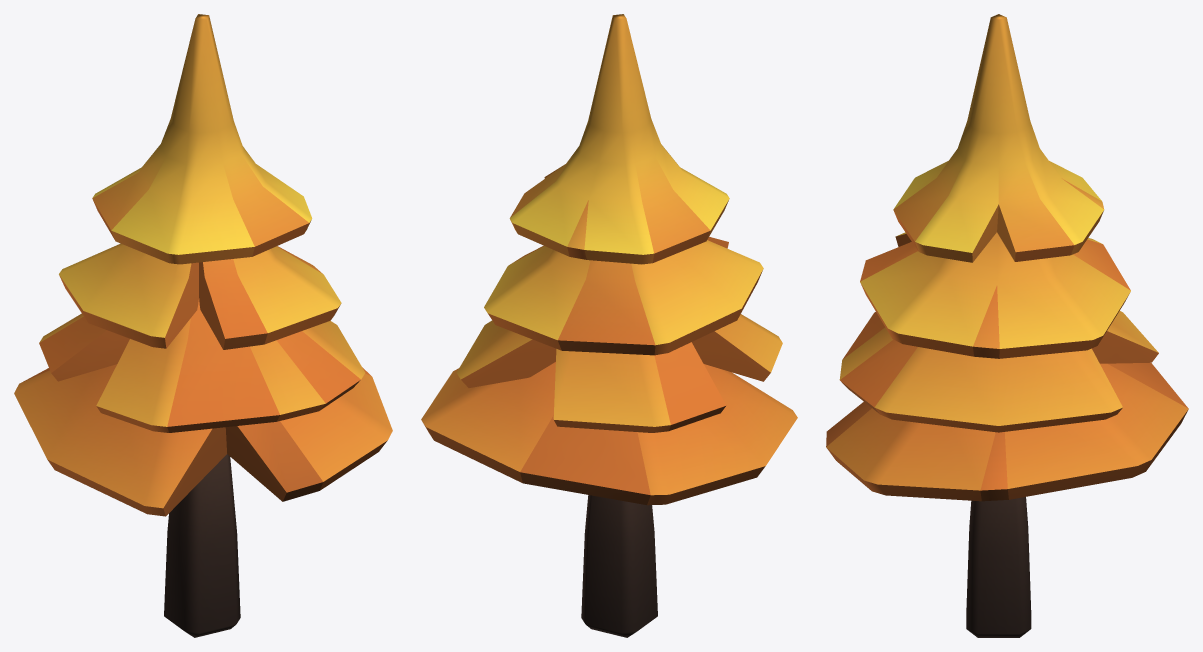
File: pine_tree_col2_10.fbx
3 renders of one model, left to right at view 1: azimuth 30°, elevation 25°; view 2: azimuth 150°, elevation 25°; view 3: azimuth 270°, elevation 25°, orthographic.
Visible parts, largest first — view 1: tree_pine_col2_10; view 2: tree_pine_col2_10; view 3: tree_pine_col2_10.
Boxes of the visible parts, bbox=[...] form: tree_pine_col2_10: bbox=[14, 14, 392, 637]; tree_pine_col2_10: bbox=[421, 14, 797, 637]; tree_pine_col2_10: bbox=[826, 14, 1188, 637].
Size of the model in its own units: 349 by 649 by 349.
1 material, 1 textured.
